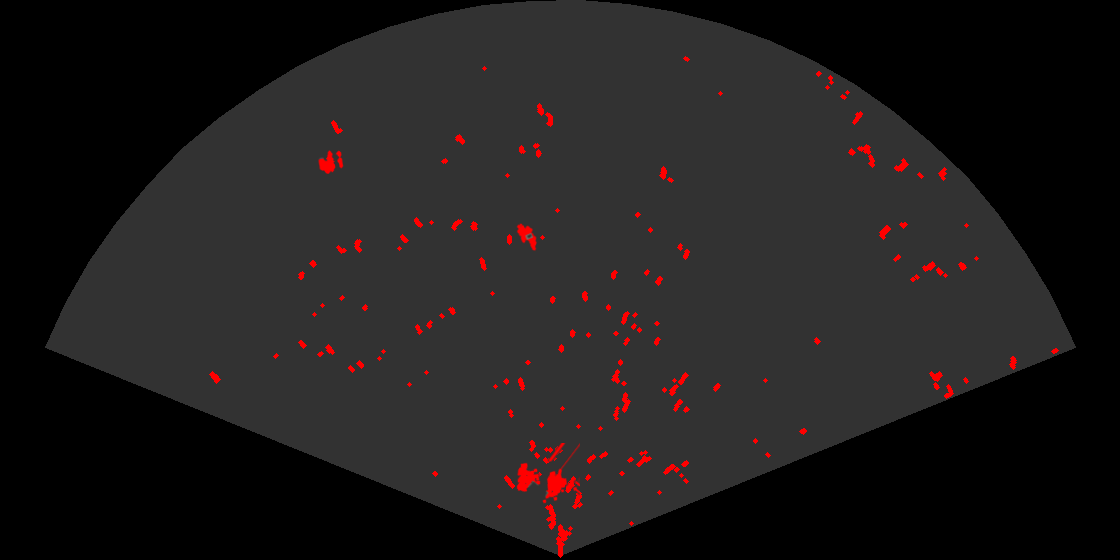AUV: (515, 222, 539, 252)
ball: (317, 149, 345, 176)
cage: (515, 443, 580, 505)
